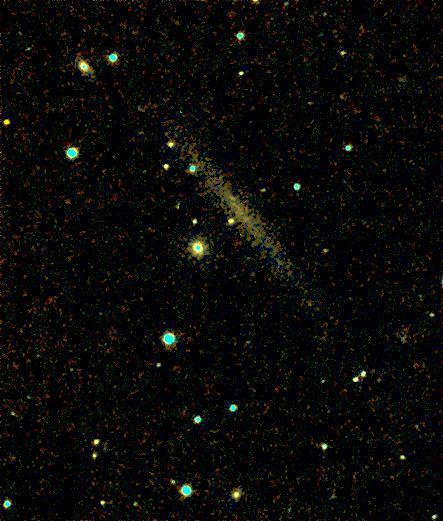star: (0, 108, 23, 138)
